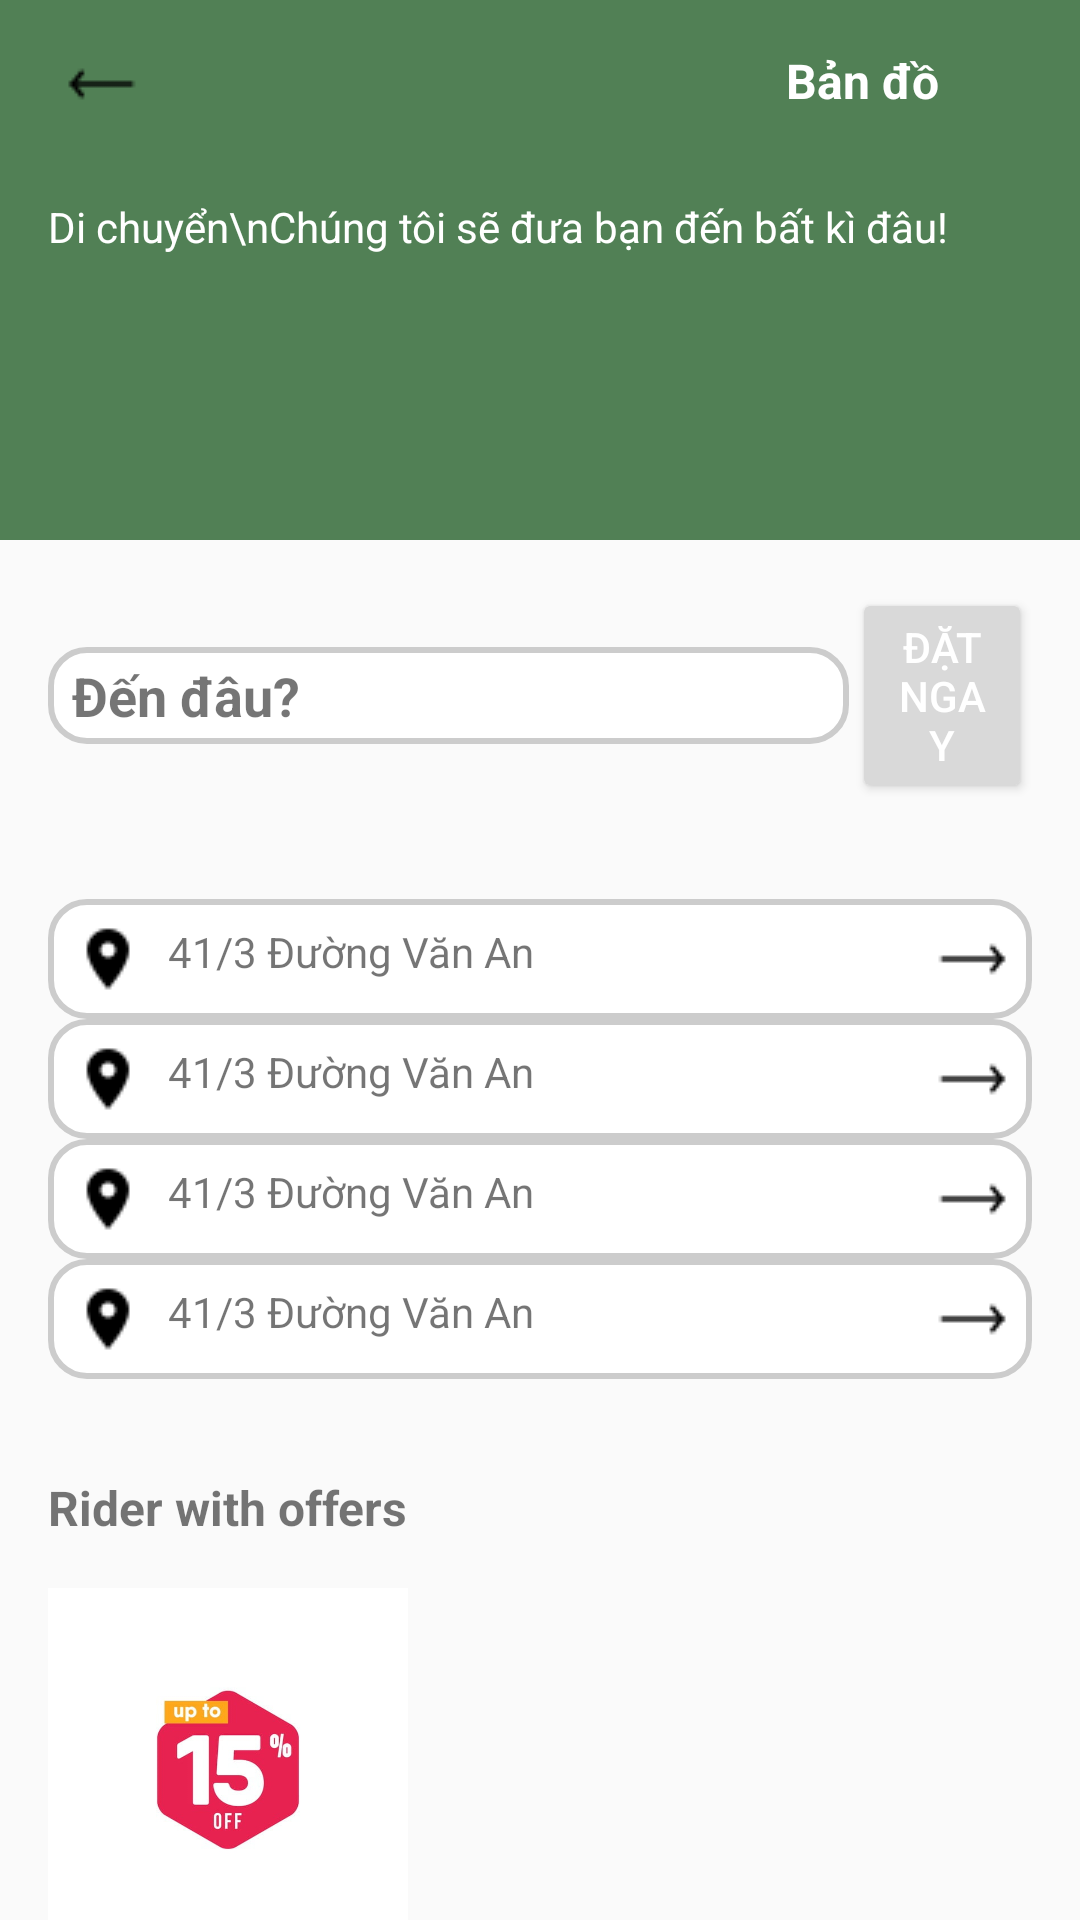

Where to tap for icons on this 1080*1920 app screen, as (x=x, y=y):
Arrow right icon: (x=972, y=959), (x=972, y=1079), (x=972, y=1199), (x=972, y=1319)
Back button: (x=101, y=84)
Location icon: (x=108, y=959), (x=108, y=1079), (x=108, y=1199), (x=108, y=1319)
Offer image: (x=228, y=1769)
